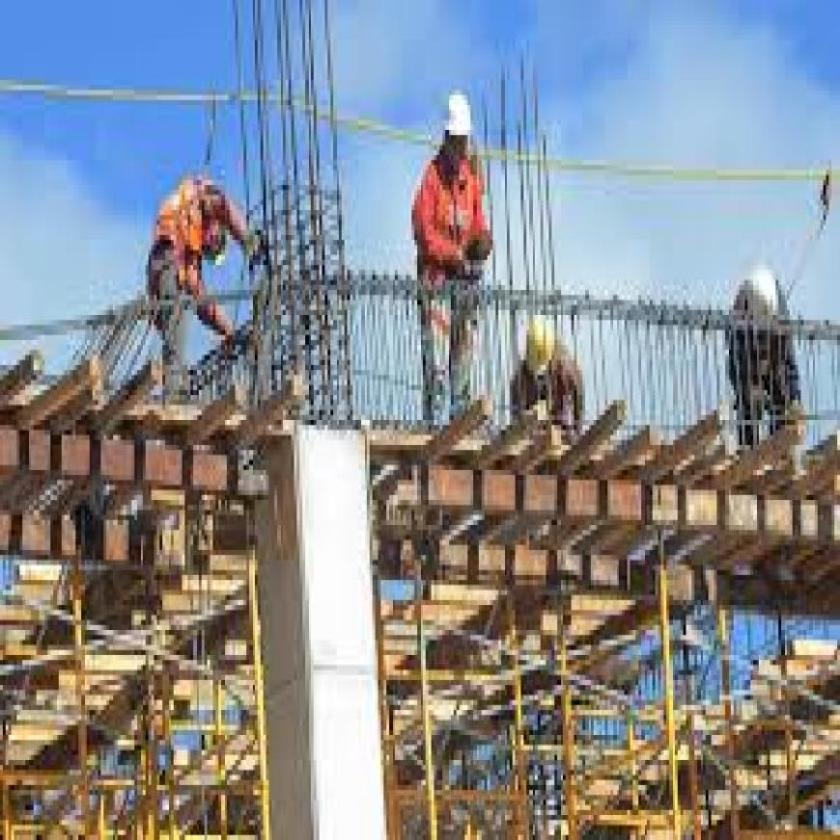Con_casco: (440, 92, 478, 181)
